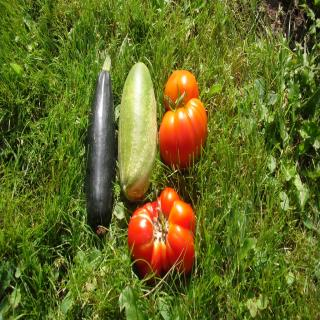tomato: (128, 186, 196, 278), (160, 98, 207, 166), (163, 70, 199, 106)
